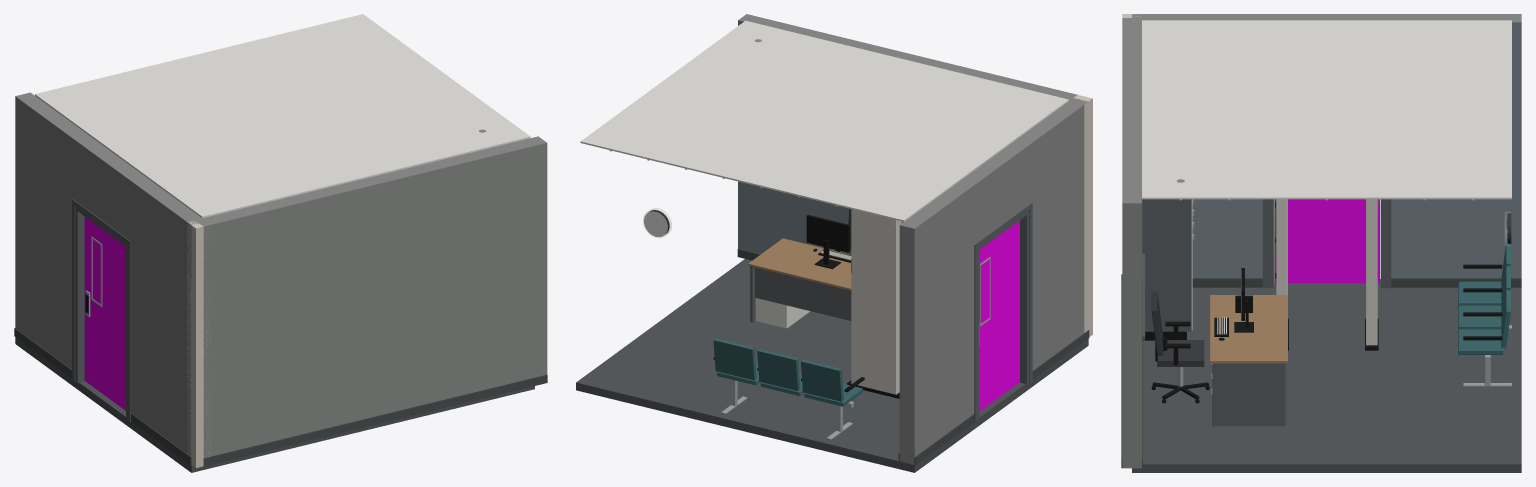
Rendered from ENV_VisitorScreening.glb.
The picture shows the model from 3 angles, left to right: view 1: azimuth 30°, elevation 25°; view 2: azimuth 150°, elevation 25°; view 3: azimuth 270°, elevation 25°; orthographic projection. The views are drawn at different scales.
Visible parts, largest first — view 1: ENV_VisitorScreening_Architecture, ENV_VisitorScreening_Ceiling, DOOR_Secure_Single_1200_Leaf_COL-colonly.006, ENV_VisitorScreening_Posts, DOOR_Secure_Single_1200_Frame.006; view 2: ENV_VisitorScreening_Architecture, ENV_VisitorScreening_Ceiling, PROP_Detector_WalkThrough_Mesh, PROP_Desk_Clinical_Mesh, DOOR_Secure_Single_1200_Leaf_COL-colonly.006, PROP_Seating_Waiting_3_Mesh, DOOR_Secure_Single_1200_Frame.006, ENV_VisitorScreening_Posts, PROP_Terminal_EHR_Mesh, PROP_Clock_Wall_Caged_Mesh.001; view 3: ENV_VisitorScreening_Architecture, ENV_VisitorScreening_Ceiling, PROP_Desk_Clinical_Mesh, DOOR_Secure_Single_1200_Leaf_COL-colonly.006, PROP_Lockers_Staff_4_Mesh, PROP_Seating_Waiting_3_Mesh, PROP_Detector_WalkThrough_Mesh, PROP_Chair_Office_Mesh, DOOR_Secure_Single_1200_Frame.006, PROP_Terminal_EHR_Mesh.
Part boxes in pixels (x1,y1,x2,y2): ENV_VisitorScreening_Architecture: (14,92,547,472); ENV_VisitorScreening_Ceiling: (35,14,530,218); DOOR_Secure_Single_1200_Leaf_COL-colonly.006: (84,217,125,410); ENV_VisitorScreening_Posts: (187,221,211,467); DOOR_Secure_Single_1200_Frame.006: (72,199,130,422); ENV_VisitorScreening_Architecture: (576,14,1089,472); ENV_VisitorScreening_Ceiling: (580,20,1068,221); PROP_Detector_WalkThrough_Mesh: (847,209,903,398); PROP_Desk_Clinical_Mesh: (748,238,851,328); DOOR_Secure_Single_1200_Leaf_COL-colonly.006: (979,220,1019,411); PROP_Seating_Waiting_3_Mesh: (713,338,864,440); DOOR_Secure_Single_1200_Frame.006: (974,203,1032,422); ENV_VisitorScreening_Posts: (1074,95,1092,336); PROP_Terminal_EHR_Mesh: (806,215,851,272); PROP_Clock_Wall_Caged_Mesh.001: (643,208,671,237); ENV_VisitorScreening_Architecture: (1121,14,1521,472); ENV_VisitorScreening_Ceiling: (1142,20,1511,200); PROP_Desk_Clinical_Mesh: (1210,295,1287,426); DOOR_Secure_Single_1200_Leaf_COL-colonly.006: (1274,199,1379,283); PROP_Lockers_Staff_4_Mesh: (1142,199,1194,340); PROP_Seating_Waiting_3_Mesh: (1458,242,1511,386); PROP_Detector_WalkThrough_Mesh: (1275,199,1378,350); PROP_Chair_Office_Mesh: (1151,291,1209,403); DOOR_Secure_Single_1200_Frame.006: (1262,199,1391,288); PROP_Terminal_EHR_Mesh: (1214,268,1253,340).
Size of what is drawn, in the model's own units: 4.63 by 3.13 by 4.11.
